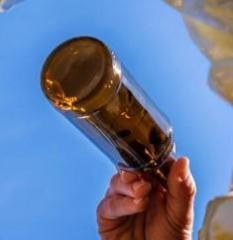glass: (37, 34, 189, 194)
